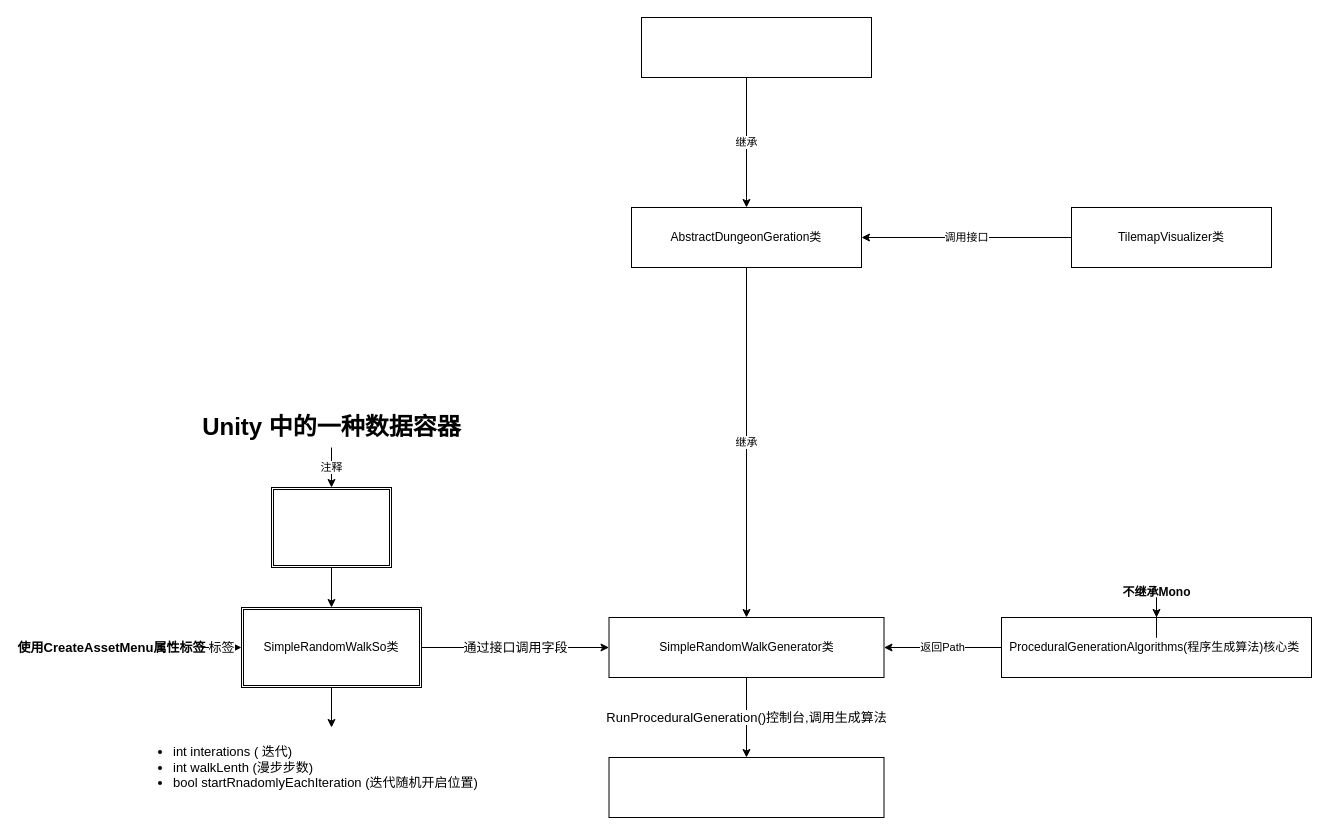
This 1329x835 diagram has some shape labels left out. The shapes that lost their labels are listed below. From the top down, each one's box as (x1, y1, x2, y2) in pixels, then its label:
(640, 16, 872, 78): Monobehavior类
(270, 486, 392, 568): ScriptableObject类
(608, 756, 884, 818): Scene/Game窗口
